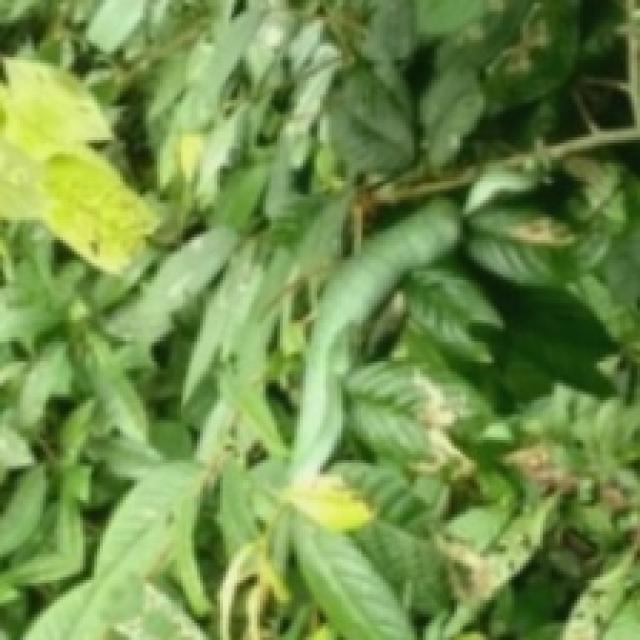north ph temple pitviper: (290, 166, 532, 479)
